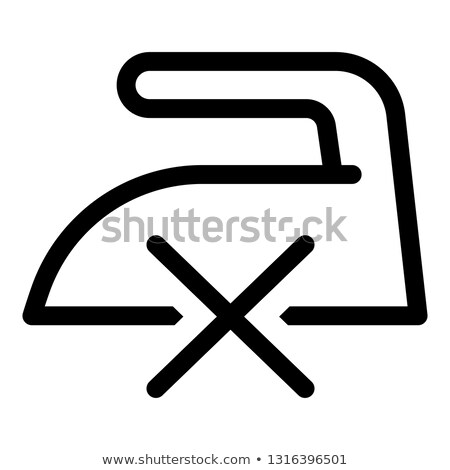do_not_iron: (23, 50, 429, 398)
